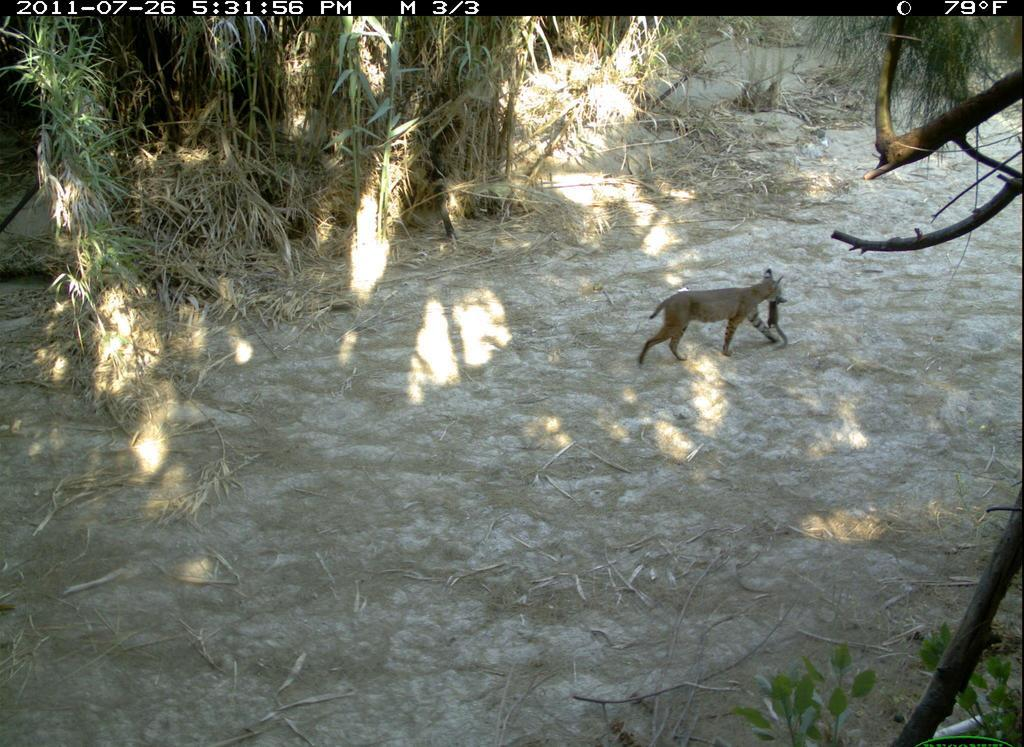bobcat: (637, 251, 812, 397)
